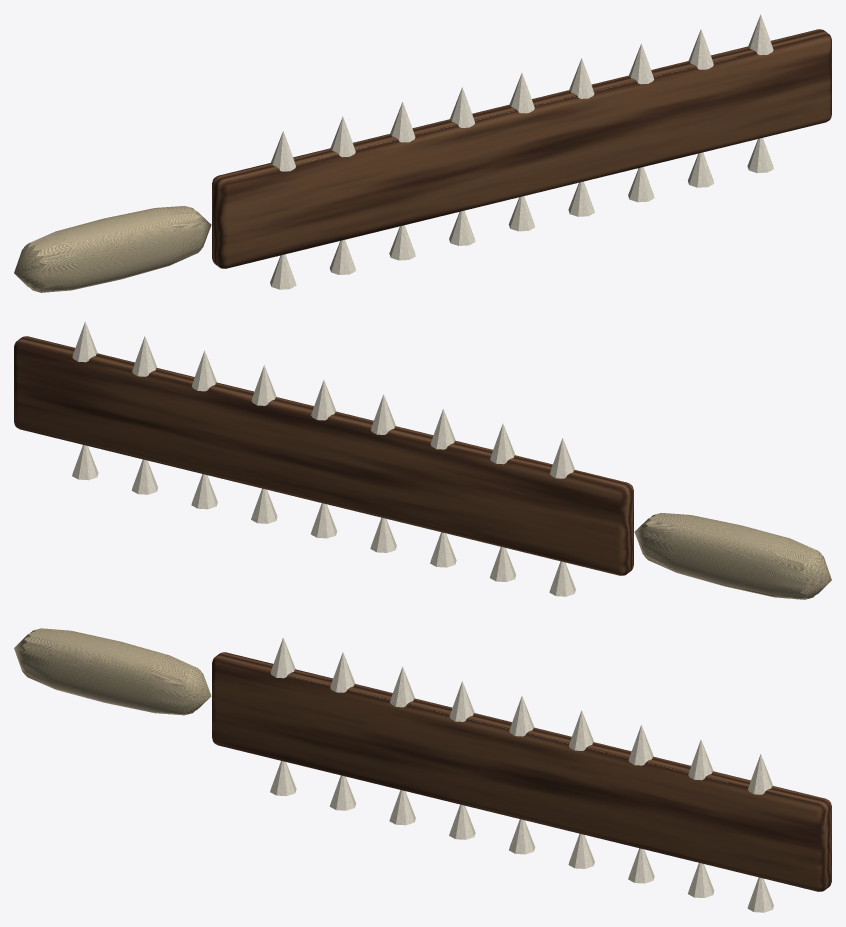
File: sharkblade.glb
3 renders of one model, top to bottom at view 1: azimuth 30°, elevation 25°; view 2: azimuth 150°, elevation 25°; view 3: azimuth 330°, elevation 25°, orthographic.
Visible parts, largest first — view 1: blade, handle, tooth0-1, tooth3-1, tooth6-1, tooth7-1, tooth2-1, tooth4-1, tooth5-1, tooth8-1, tooth1-1, tooth41 (+8 smaller); view 2: blade, handle, tooth0-1, tooth3-1, tooth6-1, tooth7-1, tooth2-1, tooth4-1, tooth5-1, tooth8-1, tooth1-1, tooth41 (+8 smaller); view 3: blade, handle, tooth1-1, tooth8-1, tooth3-1, tooth4-1, tooth6-1, tooth0-1, tooth2-1, tooth5-1, tooth7-1, tooth41 (+8 smaller).
Part boxes in pixels (left/top/right/bottom): blade: left=212, top=29, right=831, bottom=268; handle: left=14, top=206, right=211, bottom=292; tooth0-1: left=270, top=254, right=296, bottom=289; tooth3-1: left=449, top=210, right=475, bottom=245; tooth6-1: left=628, top=167, right=654, bottom=202; tooth7-1: left=688, top=152, right=714, bottom=187; tooth2-1: left=389, top=225, right=415, bottom=260; tooth4-1: left=508, top=196, right=534, bottom=231; tooth5-1: left=568, top=181, right=594, bottom=216; tooth8-1: left=747, top=138, right=773, bottom=173; tooth1-1: left=330, top=240, right=355, bottom=274; tooth41: left=509, top=73, right=534, bottom=113; blade: left=14, top=336, right=633, bottom=575; handle: left=634, top=513, right=831, bottom=599; tooth0-1: left=549, top=561, right=575, bottom=596; tooth3-1: left=370, top=517, right=396, bottom=552; tooth6-1: left=191, top=474, right=217, bottom=509; tooth7-1: left=131, top=459, right=157, bottom=494; tooth2-1: left=430, top=532, right=456, bottom=567; tooth4-1: left=311, top=503, right=337, bottom=538; tooth5-1: left=251, top=488, right=277, bottom=523; tooth8-1: left=72, top=445, right=98, bottom=480; tooth1-1: left=490, top=547, right=515, bottom=581; tooth41: left=311, top=380, right=336, bottom=420; blade: left=212, top=652, right=831, bottom=891; handle: left=14, top=628, right=211, bottom=715; tooth1-1: left=329, top=775, right=356, bottom=810; tooth8-1: left=747, top=877, right=773, bottom=912; tooth3-1: left=449, top=804, right=475, bottom=839; tooth4-1: left=509, top=819, right=535, bottom=854; tooth6-1: left=628, top=848, right=654, bottom=883; tooth0-1: left=270, top=761, right=296, bottom=796; tooth2-1: left=389, top=790, right=415, bottom=825; tooth5-1: left=568, top=833, right=594, bottom=868; tooth7-1: left=688, top=863, right=714, bottom=897; tooth41: left=509, top=696, right=534, bottom=736.
Size of the model in its own units: 0.4779 by 0.086 by 0.0268.
Materials: 1 (1 with a texture image).
